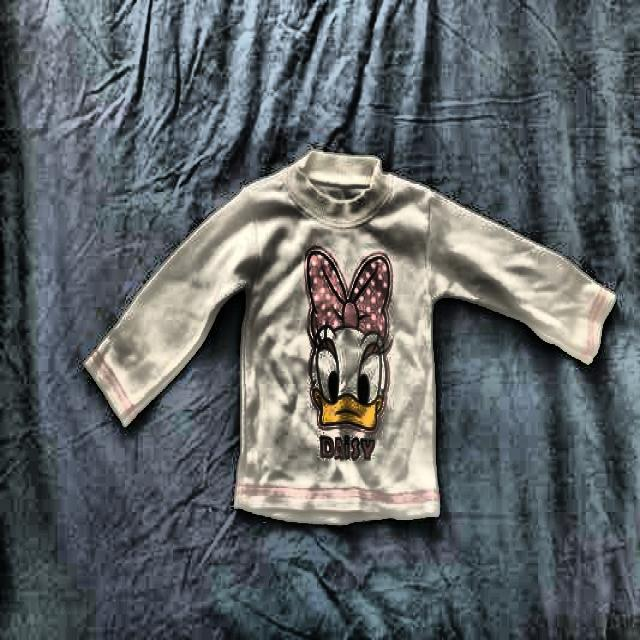clothes: (82, 151, 617, 523)
